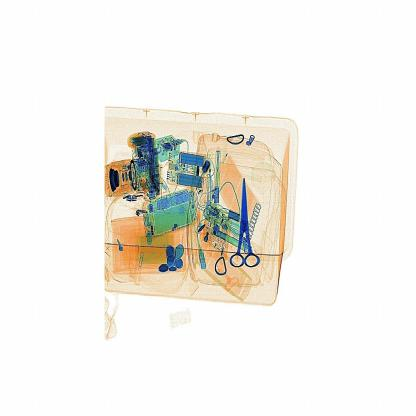gun: (226, 173, 270, 287)
